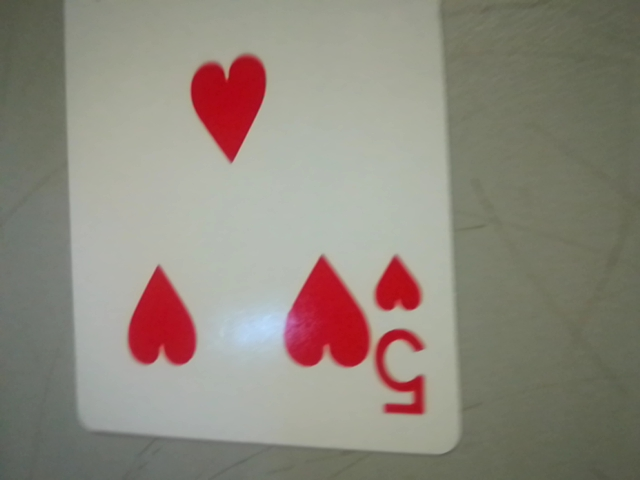hx 5: (364, 242, 445, 435)
